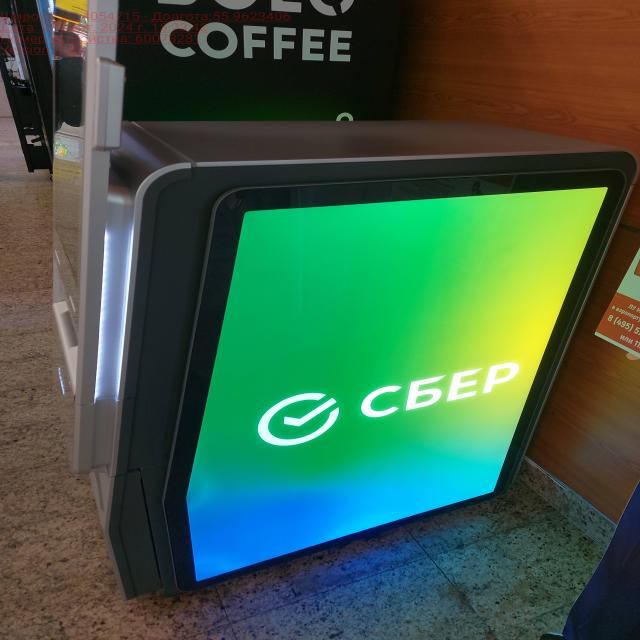bank: (53, 9, 640, 598)
